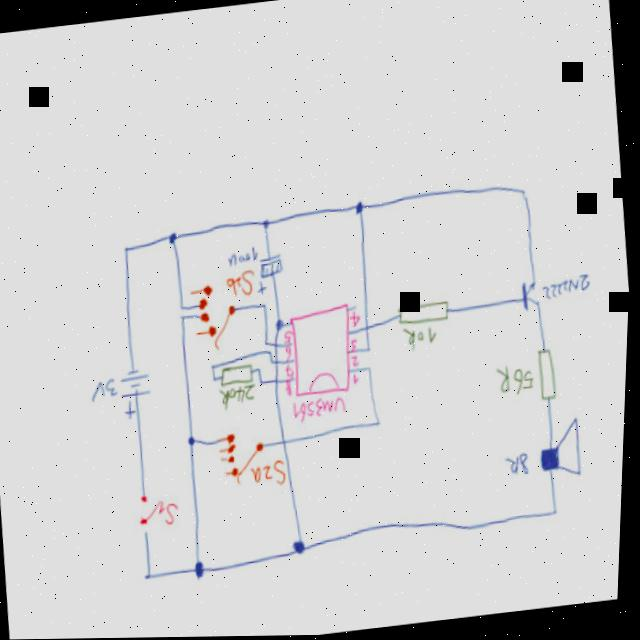capacitor: (253, 251, 292, 296)
crossover: (365, 323, 374, 336), (283, 437, 292, 449), (276, 378, 284, 388), (276, 343, 281, 349), (279, 363, 281, 366)
junction: (195, 558, 214, 583), (295, 539, 314, 559), (146, 569, 161, 586), (355, 202, 368, 218), (169, 232, 182, 247), (519, 187, 531, 203), (277, 319, 289, 334), (552, 507, 564, 520), (190, 437, 200, 450), (263, 220, 274, 231), (263, 303, 273, 313), (367, 346, 376, 357), (181, 304, 190, 314), (367, 367, 376, 376), (125, 245, 133, 255), (213, 363, 221, 373), (182, 314, 189, 325), (214, 377, 222, 386), (378, 420, 386, 429), (262, 380, 269, 389), (266, 340, 273, 349), (260, 367, 265, 375), (271, 351, 276, 357), (272, 362, 276, 365)
resistor: (397, 297, 459, 332), (536, 348, 564, 407), (221, 362, 259, 389)
source: (119, 362, 162, 421)
switch: (193, 281, 244, 355), (220, 425, 274, 488), (141, 492, 171, 543)
text: (294, 396, 350, 426), (497, 362, 540, 401), (542, 273, 595, 303), (403, 323, 443, 356), (227, 270, 264, 301), (254, 461, 291, 490), (224, 385, 260, 410), (226, 246, 262, 271), (507, 452, 537, 481), (93, 378, 123, 404), (163, 501, 186, 527), (284, 328, 297, 347), (285, 380, 297, 400), (285, 345, 297, 364), (352, 312, 364, 330), (351, 338, 363, 356), (285, 364, 298, 380), (352, 356, 364, 371), (353, 373, 364, 388)
transistor: (516, 275, 551, 316)
